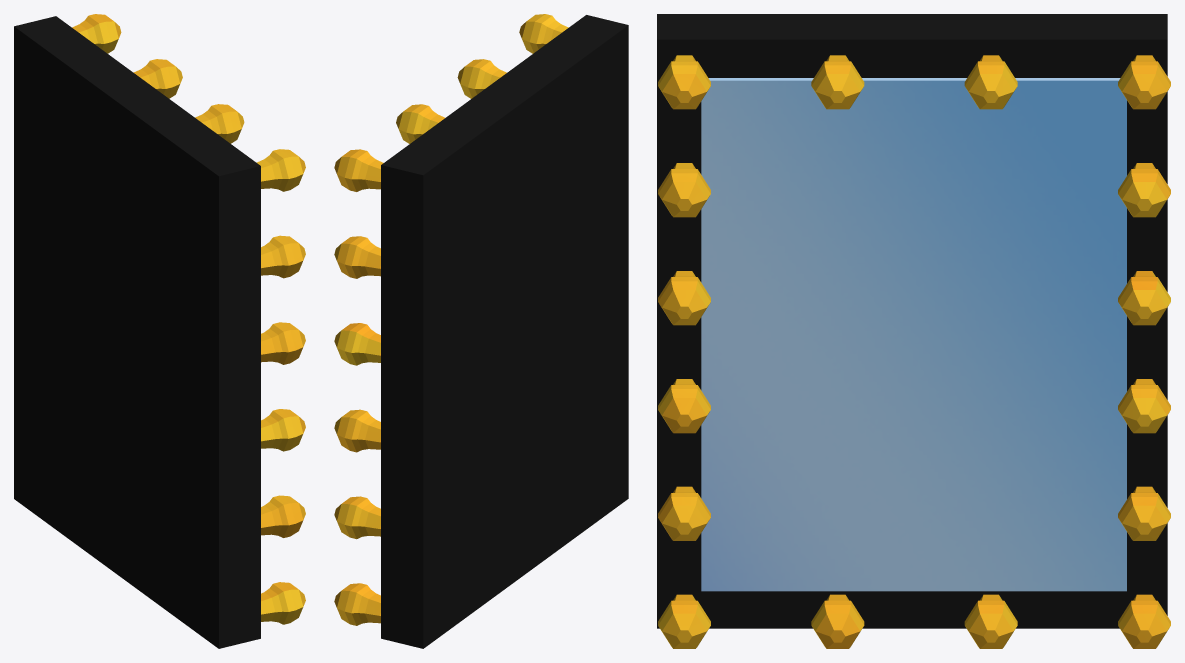
The model's file is mirror.fbx.
3 renders of one model, left to right at view 1: azimuth 30°, elevation 25°; view 2: azimuth 150°, elevation 25°; view 3: azimuth 270°, elevation 25°, orthographic. The views are drawn at different scales.
Visible parts, largest first — view 1: mirror; view 2: mirror; view 3: mirror.
Boxes of the visible parts, left/top/right/bottom form: mirror: left=14, top=14, right=305, bottom=648; mirror: left=334, top=14, right=628, bottom=648; mirror: left=657, top=14, right=1170, bottom=648.
Bounding box in the file's own units: 0.2945 × 1.4 × 1.11.
